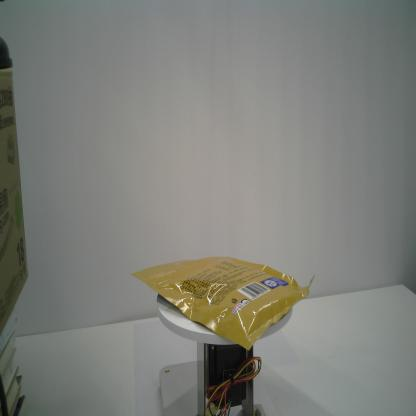Dried Fruit: (130, 255, 316, 351)
